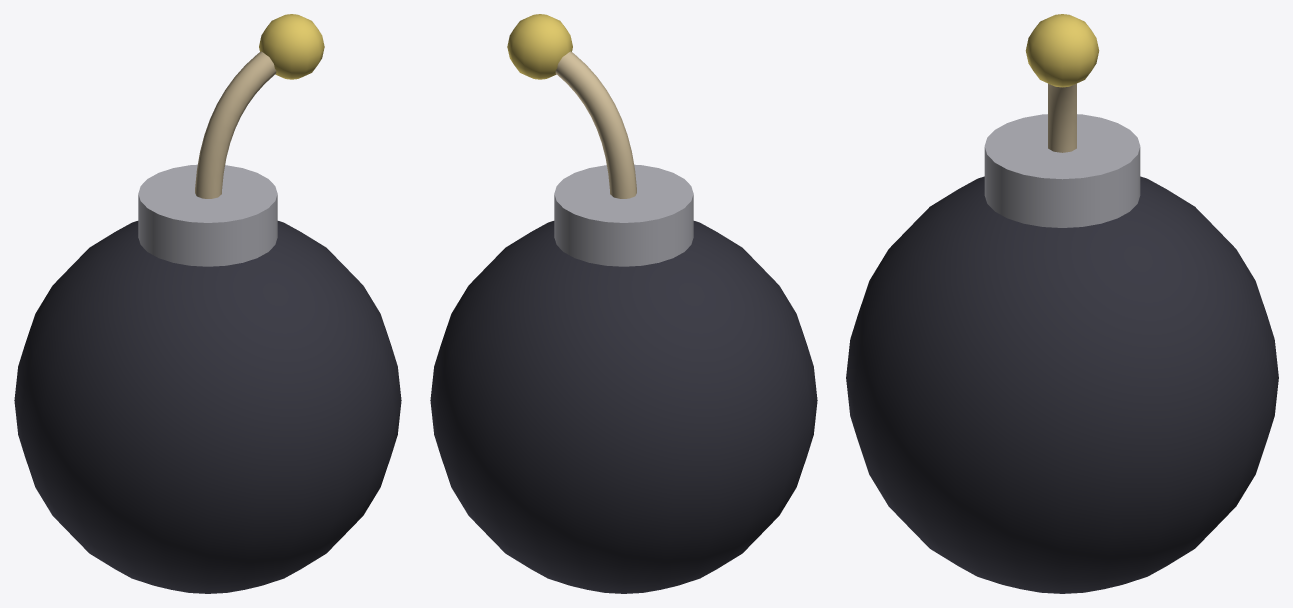
The model's file is bomb.glb.
The picture shows the model from 3 angles, left to right: view 1: azimuth 30°, elevation 25°; view 2: azimuth 150°, elevation 25°; view 3: azimuth 270°, elevation 25°; orthographic projection. The views are drawn at different scales.
Visible parts, largest first — view 1: bomb; view 2: bomb; view 3: bomb.
Boxes of the visible parts, x1,y1,x2,y2 form: bomb: (14,14,401,593); bomb: (430,14,817,593); bomb: (846,14,1278,593).
Size of the model in its own units: 2 by 3.07 by 2.
